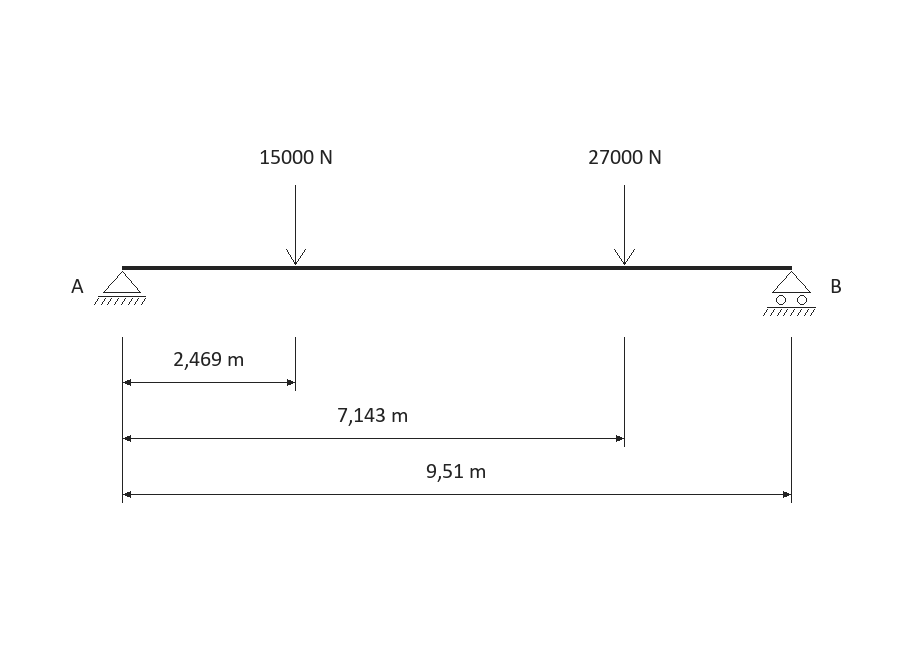pin_support: (94, 271, 146, 305)
point_load: (614, 185, 635, 265), (286, 185, 306, 265)
roller_support: (763, 271, 816, 316)
